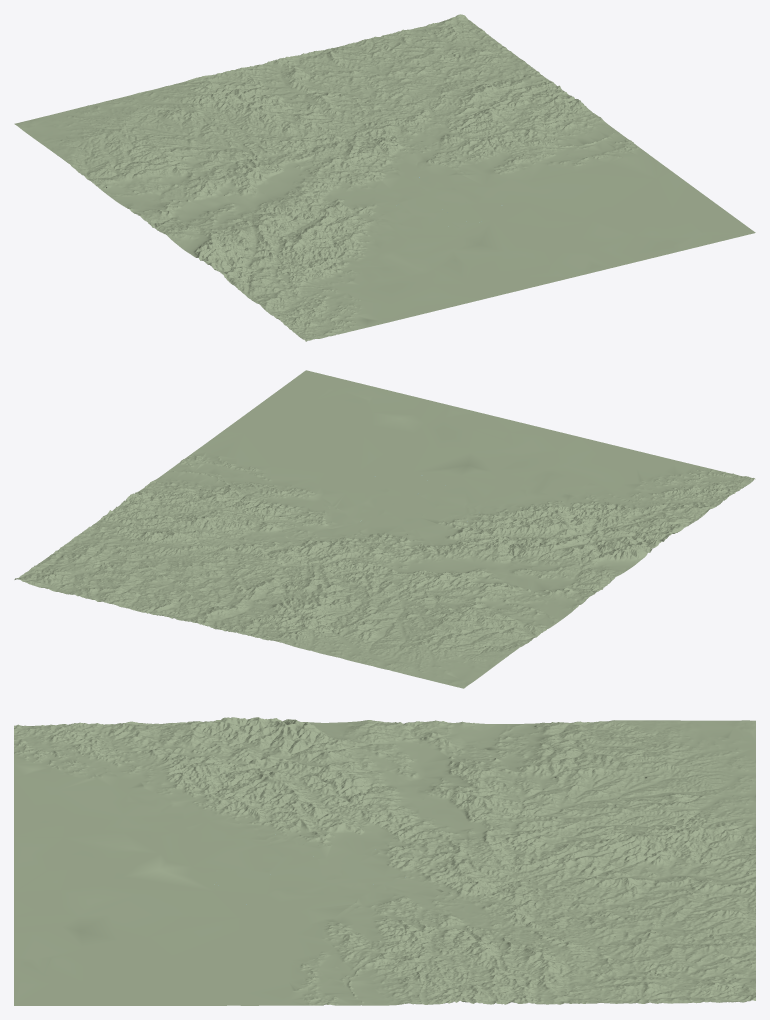
The model's file is beijing_mountains.glb.
The picture shows the model from 3 angles, top to bottom: view 1: azimuth 30°, elevation 25°; view 2: azimuth 150°, elevation 25°; view 3: azimuth 270°, elevation 25°; orthographic projection. The views are drawn at different scales.
Visible parts, largest first — view 1: BeijingMountains; view 2: BeijingMountains; view 3: BeijingMountains.
Boxes of the visible parts, x1,y1,x2,y2 form: BeijingMountains: (14, 14, 755, 341); BeijingMountains: (14, 370, 755, 688); BeijingMountains: (14, 717, 755, 1005).
Size of the model in its own units: 2633 by 56.37 by 2960.
